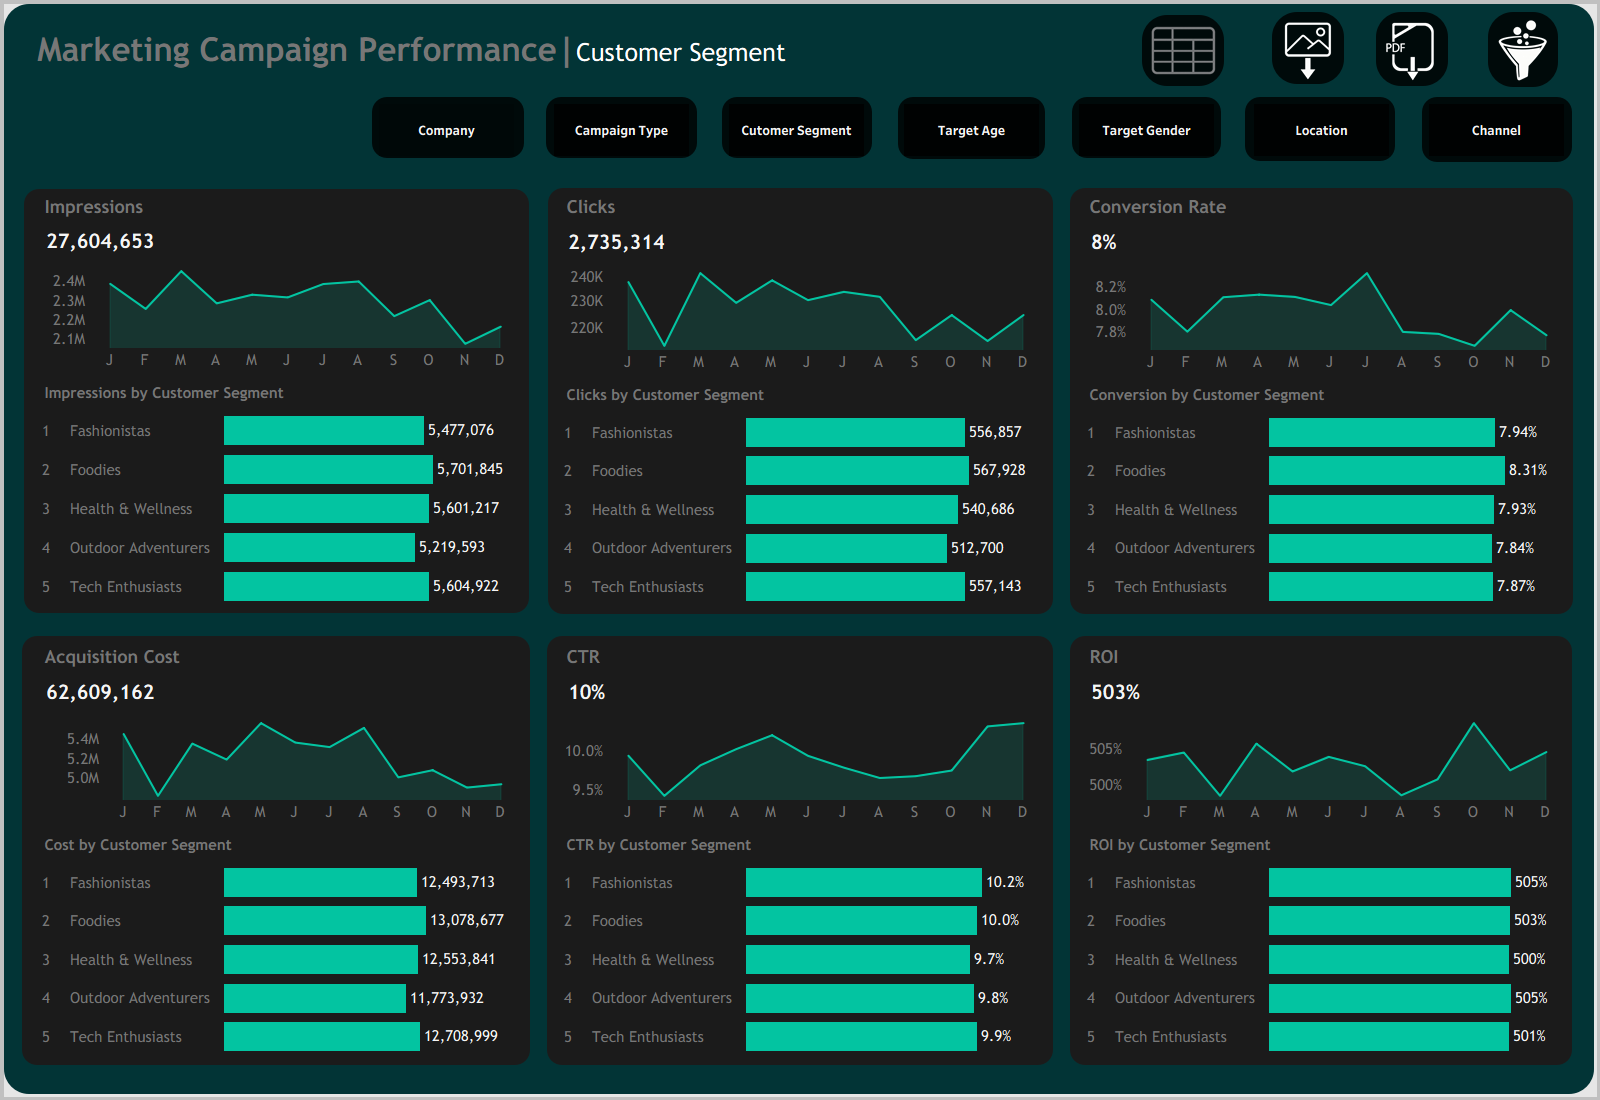

What the dashboard file says about the page in this screenshot:
{"tool":"tableau","page":{"name":"Customer Segment Page","canvas":[1600,1100],"ordinal":3},"visuals":[{"type":"worksheet","title":"Background Dashboard","mark":"Automatic","box":[0,0,1600,1100]},{"type":"blank","box":[0,0,1600,15]},{"type":"filter","title":"Clicks by Customer Segment","param":"[federated.1mnywug06xvtuc16vjv8v0i6xip0].[none:Channel_Used:nk]","box":[772,12,140.6,60]},{"type":"filter","title":"Clicks by Customer Segment","param":"[federated.1mnywug06xvtuc16vjv8v0i6xip0].[none:Company:nk]","box":[912.6,12,140.6,60]},{"type":"filter","title":"Clicks by Customer Segment","param":"[federated.1mnywug06xvtuc16vjv8v0i6xip0].[none:Calculation_1166370128986117:nk]","box":[1053.2,12,140.6,60]},{"type":"filter","title":"Clicks by Customer Segment","param":"[federated.1mnywug06xvtuc16vjv8v0i6xip0].[none:Target_Age:nk]","box":[1193.8,12,140.6,60]},{"type":"filter","title":"Clicks by Customer Segment","param":"[federated.1mnywug06xvtuc16vjv8v0i6xip0].[none:Target_Gender:nk]","box":[1334.4,12,140.6,60]},{"type":"text","box":[0,15,800,70]},{"type":"blank","box":[800,15,345,70]},{"type":"dashboard-object","box":[1145,15,76,70]},{"type":"blank","box":[1221,15,50,70]},{"type":"dashboard-object","box":[1271,15,73,70]},{"type":"blank","box":[1344,15,30,70]},{"type":"dashboard-object","box":[1374,15,70,70]},{"type":"blank","box":[1444,15,43,70]},{"type":"dashboard-object","box":[1487,15,70,70]},{"type":"blank","box":[1557,15,43,70]},{"type":"blank","box":[0,85,1600,15]},{"type":"blank","box":[0,90,4,207]},{"type":"dashboard-object","box":[4,90,39,35]},{"type":"text","box":[43,90,38,35]},{"type":"blank","box":[81,90,5,207]},{"type":"dashboard-object","box":[86,90,31,33]},{"type":"text","box":[117,90,161,33]},{"type":"blank","box":[278,90,5,207]},{"type":"dashboard-object","box":[283,90,30,33]},{"type":"text","box":[313,90,155,33]},{"type":"blank","box":[468,90,5,207]},{"type":"dashboard-object","box":[473,90,31,33]},{"type":"text","box":[504,90,119,33]},{"type":"blank","box":[623,90,5,207]},{"type":"dashboard-object","box":[628,90,31,33]},{"type":"text","box":[659.1,90,158,33]},{"type":"blank","box":[817.1,90,5,207]},{"type":"dashboard-object","box":[822.1,90,30,30]},{"type":"text","box":[852.1,90,144,30]},{"type":"blank","box":[996.1,90,5,207]},{"type":"dashboard-object","box":[1001.1,90,30,30]},{"type":"text","box":[1031.1,90,169,30]},{"type":"blank","box":[1200.1,90,5,207]},{"type":"dashboard-object","box":[1205.1,90,30,30]},{"type":"text","box":[1235.1,90,154,30]},{"type":"blank","box":[1389.1,90,5,207]},{"type":"dashboard-object","box":[1394.1,90,30,30]},{"type":"text","box":[1424.1,90,142,30]},{"type":"blank","box":[1566.1,90,30,207]},{"type":"blank","box":[0,100,343,60]},{"type":"blank","box":[343,100,32,60]},{"type":"dashboard-object","box":[375,100,143,60]},{"type":"blank","box":[518,100,32,60]},{"type":"dashboard-object","box":[550,100,143,60]},{"type":"blank","box":[693,100,32,60]},{"type":"dashboard-object","box":[725,100,143,60]},{"type":"blank","box":[868,100,32,60]},{"type":"dashboard-object","box":[900,100,143,60]},{"type":"blank","box":[1043,100,32,60]},{"type":"dashboard-object","box":[1075,100,143,60]},{"type":"blank","box":[1218,100,32,60]},{"type":"dashboard-object","box":[1250,100,143,60]},{"type":"blank","box":[1393,100,32,60]},{"type":"dashboard-object","box":[1425,100,143,60]},{"type":"blank","box":[1568,100,32,60]},{"type":"filter","title":"Detailed_Table","param":"[federated.1mnywug06xvtuc16vjv8v0i6xip0].[none:Channel_Used:nk]","box":[822.1,120,174,58]},{"type":"filter","title":"Detailed_Table","param":"[federated.1mnywug06xvtuc16vjv8v0i6xip0].[usr:Calculation_1851639007813637:qk]","box":[1001.1,120,199,51]},{"type":"filter","title":"Detailed_Table","param":"[federated.1mnywug06xvtuc16vjv8v0i6xip0].[usr:Calculation_1851639006334976:qk]","box":[1205.1,120,184,33]},{"type":"filter","title":"Detailed_Table","param":"[federated.1mnywug06xvtuc16vjv8v0i6xip0].[usr:Calculation_1851639007145986:qk]","box":[1394.1,120,172,51]},{"type":"filter","title":"Detailed_Table","param":"[federated.1mnywug06xvtuc16vjv8v0i6xip0].[none:Company:nk]","box":[86,123,192,58]},{"type":"filter","title":"Detailed_Table","param":"[federated.1mnywug06xvtuc16vjv8v0i6xip0].[none:Customer_Segment:nk]","box":[283,123,185,58]},{"type":"filter","title":"Detailed_Table","param":"[federated.1mnywug06xvtuc16vjv8v0i6xip0].[tdy:Date:qk]","box":[473,123,150,68]},{"type":"filter","title":"Detailed_Table","param":"[federated.1mnywug06xvtuc16vjv8v0i6xip0].[none:Calculation_1166370128986117:nk]","box":[628,123,189,58]},{"type":"filter","title":"Detailed_Table","param":"[federated.1mnywug06xvtuc16vjv8v0i6xip0].[none:Campaign_ID (Dim!Campaign):nk]","box":[4,125,77,35]},{"type":"blank","box":[0,160,32,932]},{"type":"blank","box":[32,160,490,32]},{"type":"blank","box":[522,160,32,932]},{"type":"blank","box":[554.1,160,490.9,32]},{"type":"blank","box":[1045,160,32,932]},{"type":"blank","box":[1077,160,490.9,32]},{"type":"blank","box":[1567.9,160,32,932]},{"type":"filter","title":"Detailed_Table","param":"[federated.1mnywug06xvtuc16vjv8v0i6xip0].[none:Campaign_Type:nk]","box":[86,181,192,58]},{"type":"filter","title":"Detailed_Table","param":"[federated.1mnywug06xvtuc16vjv8v0i6xip0].[none:Target_Age:nk]","box":[283,181,185,58]},{"type":"filter","title":"Detailed_Table","param":"[federated.1mnywug06xvtuc16vjv8v0i6xip0].[none:Location:nk]","box":[628,181,189,58]},{"type":"filter","title":"Detailed_Table","param":"[federated.1mnywug06xvtuc16vjv8v0i6xip0].[none:Weekday:nk]","box":[473,191,150,58]},{"type":"text","box":[32,192,490,29]},{"type":"text","box":[554.1,192,490.9,29]},{"type":"text","box":[1077,192,490.9,29]},{"type":"worksheet","title":"BAN Impressions","mark":"Automatic","box":[32,221,490,41]},{"type":"worksheet","title":"BAN Clicks","mark":"Automatic","box":[554.1,221,490.9,43]},{"type":"worksheet","title":"BAN Conversion","mark":"Automatic","box":[1077,221,490.9,43]},{"type":"filter","title":"Detailed_Table","param":"[federated.1mnywug06xvtuc16vjv8v0i6xip0].[none:Target_Gender:nk]","box":[283,239,185,58]},{"type":"worksheet","title":"Impressions by Year","mark":"Line","rows":["Calculation_1851639006334976","Calculation_1851639006334976"],"cols":["Date"],"box":[32,262,490,112]},{"type":"worksheet","title":"Clicks by Year","mark":"Line","rows":["Calculation_1851639006855169","Calculation_1851639006855169"],"cols":["Date"],"box":[554.1,264,490.9,112]},{"type":"worksheet","title":"Conversion by Year","mark":"Line","rows":["Calculation_1851639007629316","Calculation_1851639007629316"],"cols":["Date"],"box":[1077,264,490.9,112]},{"type":"worksheet","title":"Detailed_Table","mark":"Shape","rows":["Campaign_ID (Dim!Campaign)"],"cols":["Calculation_2238670781300739","Calculation_2238670781300739","Calculation_2238670781300739","Calculation_2238670781300739","Calculation_2238670781300739","Calculation_2238670781300739","Calculation_2238670781300739","Calculation_2238670781300739"],"box":[0,297,1600,803]},{"type":"worksheet","title":"Impressions by Customer Segment","mark":"Bar","rows":["Calculation_1166370116337667","Customer_Segment"],"cols":["Calculation_1851639006334976"],"box":[32,374,490,236]},{"type":"worksheet","title":"Clicks by Customer Segment","mark":"Bar","rows":["Calculation_1166370116337667","Customer_Segment"],"cols":["Calculation_1851639006855169"],"box":[554.1,376,490.9,234]},{"type":"worksheet","title":"Conversion by Customer Segment","mark":"Bar","rows":["Calculation_1166370116337667","Customer_Segment"],"cols":["Calculation_1851639007629316"],"box":[1077,376,490.9,234]},{"type":"blank","box":[32,610,490,32]},{"type":"blank","box":[554.1,610,490.9,32]},{"type":"blank","box":[1077,610,490.9,32]},{"type":"text","box":[32,642,490,29]},{"type":"text","box":[554.1,642,490.9,29]},{"type":"text","box":[1077,642,490.9,29]},{"type":"worksheet","title":"BAN Cost","mark":"Automatic","box":[32,671,490,43]},{"type":"worksheet","title":"BAN CTR","mark":"Automatic","box":[554.1,671,490.9,43]},{"type":"worksheet","title":"BAN ROI","mark":"Automatic","box":[1077,671,490.9,43]},{"type":"worksheet","title":"Cost by Year","mark":"Line","rows":["Calculation_1851639007813637","Calculation_1851639007813637"],"cols":["Date"],"box":[32,714,490,112]},{"type":"worksheet","title":"CTR by Year","mark":"Line","rows":["Calculation_1851639007145986","Calculation_1851639007145986"],"cols":["Date"],"box":[554.1,714,490.9,112]},{"type":"worksheet","title":"ROI by Year","mark":"Line","rows":["Calculation_1851639007985670","Calculation_1851639007985670"],"cols":["Date"],"box":[1077,714,490.9,112]},{"type":"worksheet","title":"Cost by Customer Segment","mark":"Bar","rows":["Calculation_1166370116337667","Customer_Segment"],"cols":["Calculation_1851639007813637"],"box":[32,826,490,234]},{"type":"worksheet","title":"CTR by Customer Segment","mark":"Bar","rows":["Calculation_1166370116337667","Customer_Segment"],"cols":["Calculation_1851639007145986"],"box":[554.1,826,490.9,234]},{"type":"worksheet","title":"ROI by Customer Segment","mark":"Bar","rows":["Calculation_1166370116337667","Customer_Segment"],"cols":["Calculation_1851639007985670"],"box":[1077,826,490.9,234]},{"type":"blank","box":[32,1060,490,32]},{"type":"blank","box":[554.1,1060,490.9,32]},{"type":"blank","box":[1077,1060,490.9,32]}]}

Visuals, with their boxes in screenshot pixels (x1, y1, x2, y2), scaled from the page's 1600x1100 canvas onto the 1600x1100 screenshot:
"Background Dashboard" worksheet: 0:0:1599:1099
blank: 0:0:1599:15
"Clicks by Customer Segment" filter: 772:12:913:72
"Clicks by Customer Segment" filter: 913:12:1053:72
"Clicks by Customer Segment" filter: 1053:12:1194:72
"Clicks by Customer Segment" filter: 1194:12:1334:72
"Clicks by Customer Segment" filter: 1334:12:1475:72
text: 0:15:800:85
blank: 800:15:1145:85
dashboard-object: 1145:15:1221:85
blank: 1221:15:1271:85
dashboard-object: 1271:15:1344:85
blank: 1344:15:1374:85
dashboard-object: 1374:15:1444:85
blank: 1444:15:1487:85
dashboard-object: 1487:15:1557:85
blank: 1557:15:1599:85
blank: 0:85:1599:100
blank: 0:90:4:297
dashboard-object: 4:90:43:125
text: 43:90:81:125
blank: 81:90:86:297
dashboard-object: 86:90:117:123
text: 117:90:278:123
blank: 278:90:283:297
dashboard-object: 283:90:313:123
text: 313:90:468:123
blank: 468:90:473:297
dashboard-object: 473:90:504:123
text: 504:90:623:123
blank: 623:90:628:297
dashboard-object: 628:90:659:123
text: 659:90:817:123
blank: 817:90:822:297
dashboard-object: 822:90:852:120
text: 852:90:996:120
blank: 996:90:1001:297
dashboard-object: 1001:90:1031:120
text: 1031:90:1200:120
blank: 1200:90:1205:297
dashboard-object: 1205:90:1235:120
text: 1235:90:1389:120
blank: 1389:90:1394:297
dashboard-object: 1394:90:1424:120
text: 1424:90:1566:120
blank: 1566:90:1596:297
blank: 0:100:343:160
blank: 343:100:375:160
dashboard-object: 375:100:518:160
blank: 518:100:550:160
dashboard-object: 550:100:693:160
blank: 693:100:725:160
dashboard-object: 725:100:868:160
blank: 868:100:900:160
dashboard-object: 900:100:1043:160
blank: 1043:100:1075:160
dashboard-object: 1075:100:1218:160
blank: 1218:100:1250:160
dashboard-object: 1250:100:1393:160
blank: 1393:100:1425:160
dashboard-object: 1425:100:1568:160
blank: 1568:100:1599:160
"Detailed_Table" filter: 822:120:996:178
"Detailed_Table" filter: 1001:120:1200:171
"Detailed_Table" filter: 1205:120:1389:153
"Detailed_Table" filter: 1394:120:1566:171
"Detailed_Table" filter: 86:123:278:181
"Detailed_Table" filter: 283:123:468:181
"Detailed_Table" filter: 473:123:623:191
"Detailed_Table" filter: 628:123:817:181
"Detailed_Table" filter: 4:125:81:160
blank: 0:160:32:1092
blank: 32:160:522:192
blank: 522:160:554:1092
blank: 554:160:1045:192
blank: 1045:160:1077:1092
blank: 1077:160:1568:192
blank: 1568:160:1599:1092
"Detailed_Table" filter: 86:181:278:239
"Detailed_Table" filter: 283:181:468:239
"Detailed_Table" filter: 628:181:817:239
"Detailed_Table" filter: 473:191:623:249
text: 32:192:522:221
text: 554:192:1045:221
text: 1077:192:1568:221
"BAN Impressions" worksheet: 32:221:522:262
"BAN Clicks" worksheet: 554:221:1045:264
"BAN Conversion" worksheet: 1077:221:1568:264
"Detailed_Table" filter: 283:239:468:297
"Impressions by Year" worksheet (Line marks): 32:262:522:374
"Clicks by Year" worksheet (Line marks): 554:264:1045:376
"Conversion by Year" worksheet (Line marks): 1077:264:1568:376
"Detailed_Table" worksheet (Shape marks): 0:297:1599:1099
"Impressions by Customer Segment" worksheet (Bar marks): 32:374:522:610
"Clicks by Customer Segment" worksheet (Bar marks): 554:376:1045:610
"Conversion by Customer Segment" worksheet (Bar marks): 1077:376:1568:610
blank: 32:610:522:642
blank: 554:610:1045:642
blank: 1077:610:1568:642
text: 32:642:522:671
text: 554:642:1045:671
text: 1077:642:1568:671
"BAN Cost" worksheet: 32:671:522:714
"BAN CTR" worksheet: 554:671:1045:714
"BAN ROI" worksheet: 1077:671:1568:714
"Cost by Year" worksheet (Line marks): 32:714:522:826
"CTR by Year" worksheet (Line marks): 554:714:1045:826
"ROI by Year" worksheet (Line marks): 1077:714:1568:826
"Cost by Customer Segment" worksheet (Bar marks): 32:826:522:1060
"CTR by Customer Segment" worksheet (Bar marks): 554:826:1045:1060
"ROI by Customer Segment" worksheet (Bar marks): 1077:826:1568:1060
blank: 32:1060:522:1092
blank: 554:1060:1045:1092
blank: 1077:1060:1568:1092
